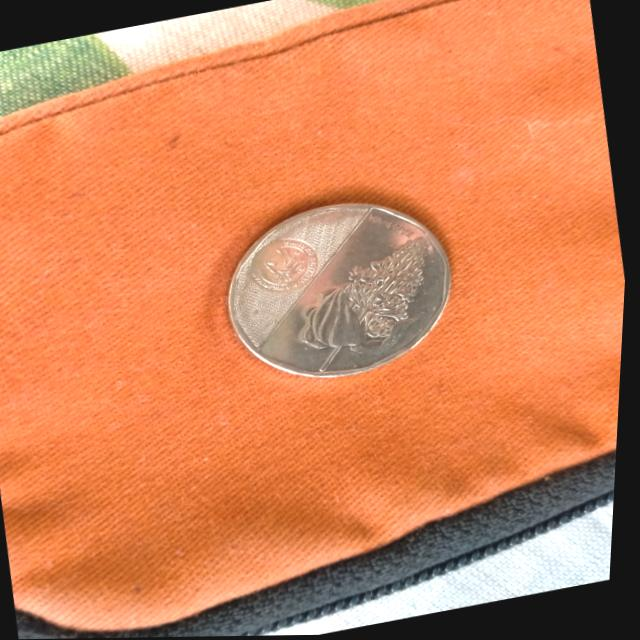10_New_Back: (286, 229, 463, 378)
